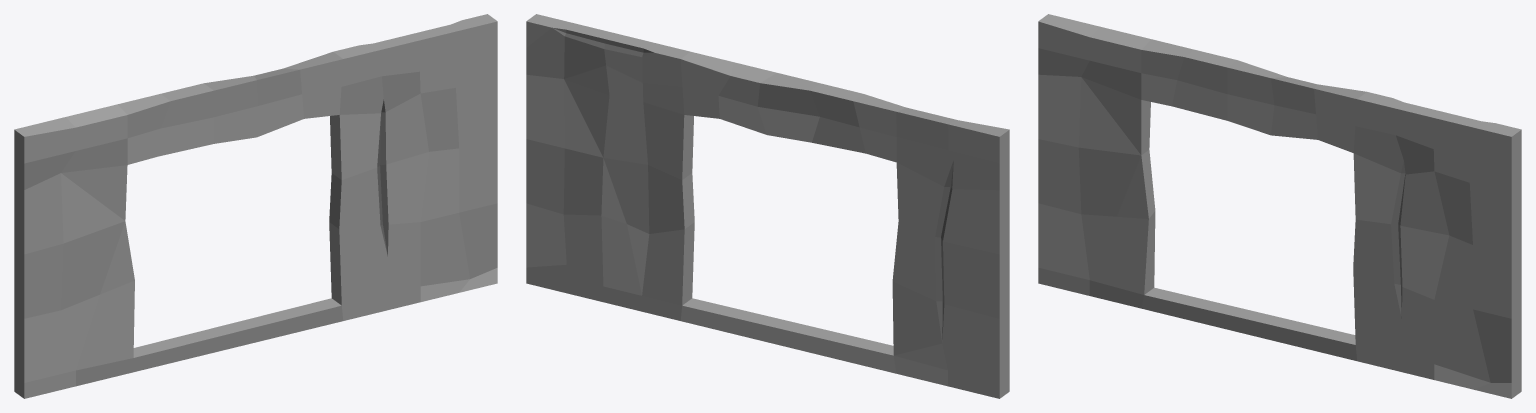
File: Fixed Mesh 5.fbx
3 renders of one model, left to right at view 1: azimuth 30°, elevation 25°; view 2: azimuth 150°, elevation 25°; view 3: azimuth 330°, elevation 25°, orthographic.
Visible parts, largest first — view 1: Cube.057; view 2: Cube.057; view 3: Cube.057.
Boxes of the visible parts, box(x1,y1,x2,y2) form: Cube.057: box(14, 14, 497, 398); Cube.057: box(526, 14, 1009, 398); Cube.057: box(1038, 14, 1521, 398).
Size of the model in its own units: 810 by 428 by 35.74.
